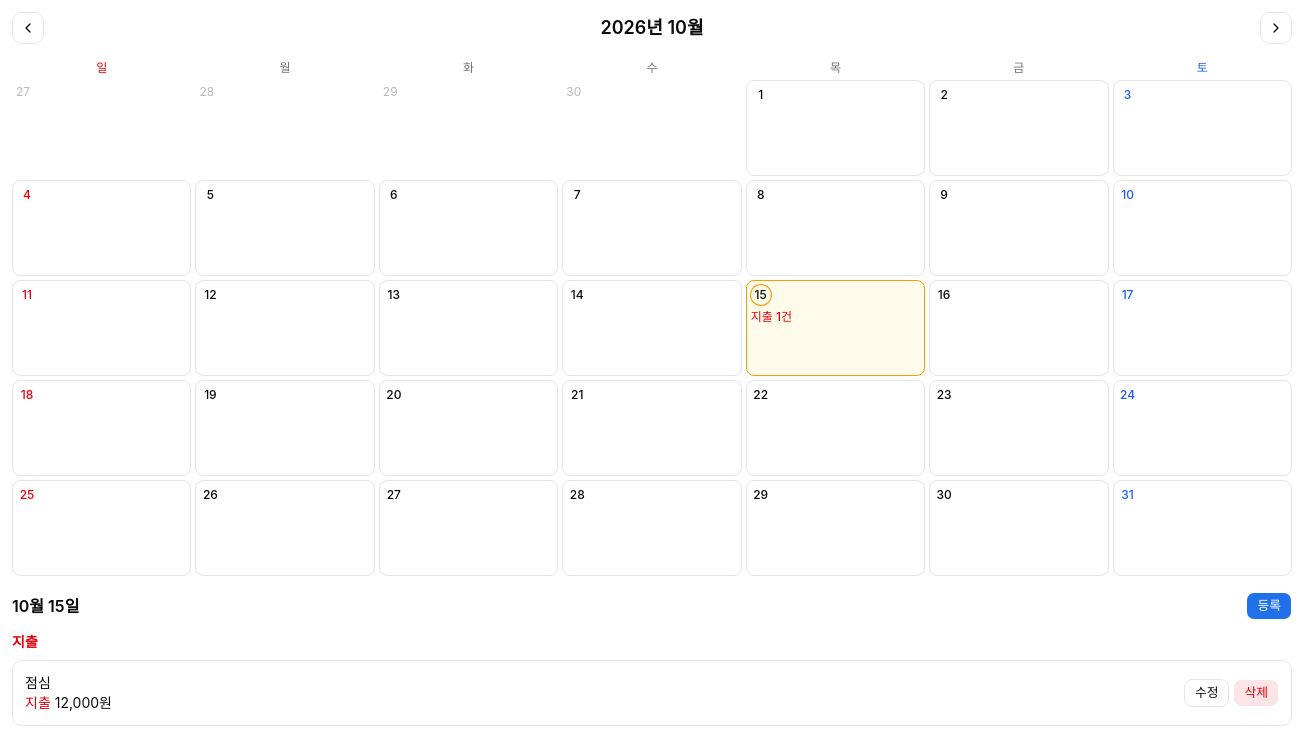
Ledger › shows loading instead of 기록 없음 while the next month is still loading
The width and height of the screenshot is (1304, 732).
expect the text "점심" is shown: met, box [25,674,51,691]
Click the button named "다음 달" at (1276, 28), box [1260,12,1292,44]
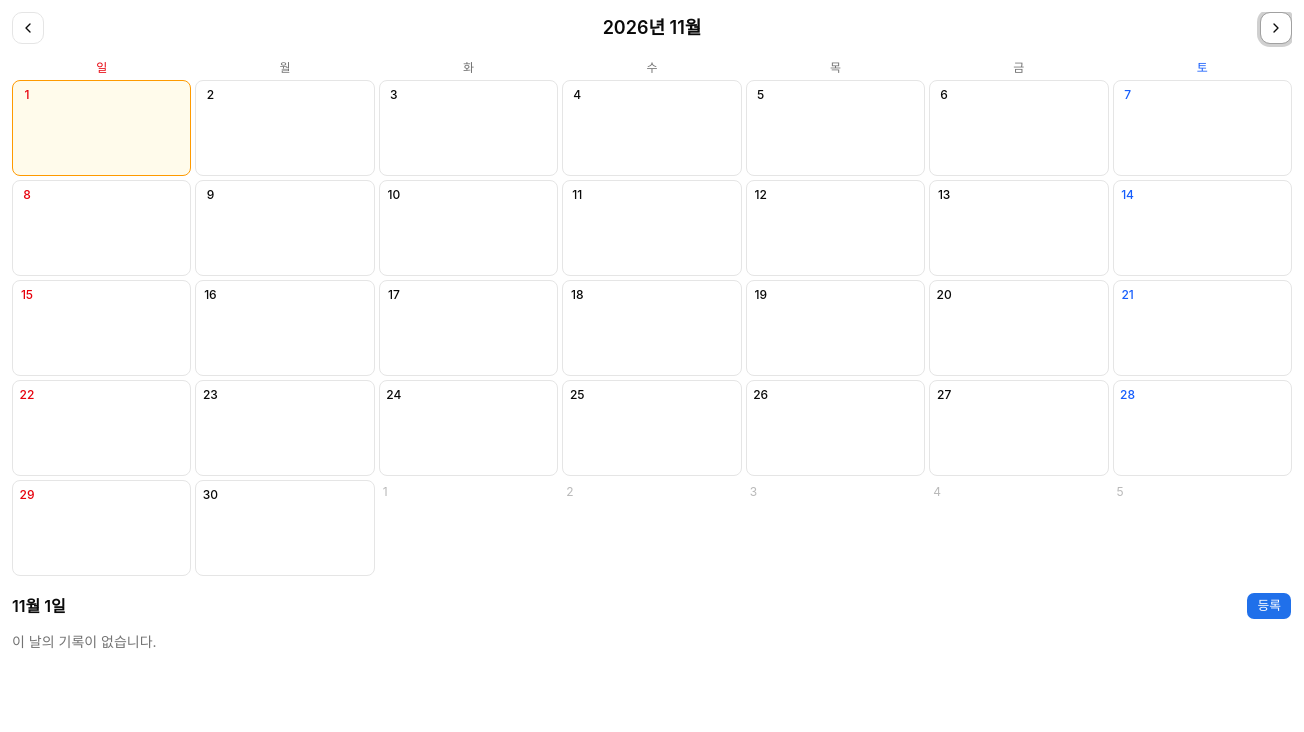
expect the button "등록" is shown: met, box [1246,592,1292,620]
expect the text "이 날의 기록이 없습니다." is shown: met, box [12,633,157,650]
